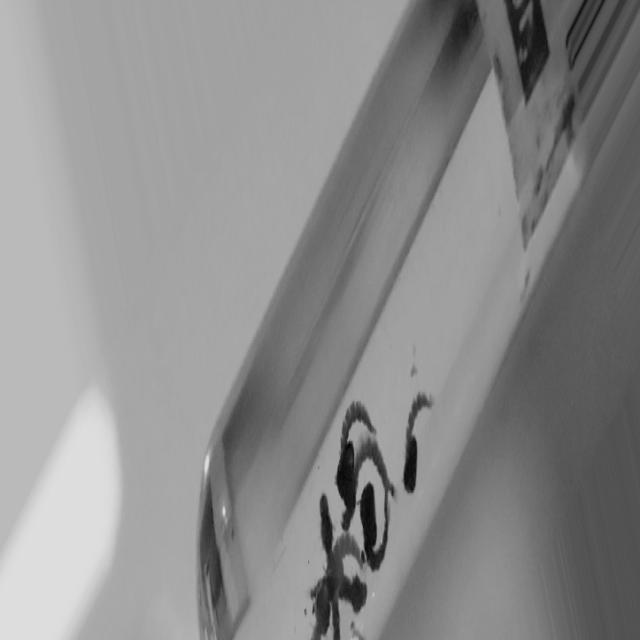larvas: (308, 530, 367, 638), (323, 387, 376, 501), (338, 432, 396, 535), (403, 395, 432, 494), (363, 484, 389, 570), (313, 494, 339, 561), (345, 575, 366, 607), (352, 621, 368, 640)
